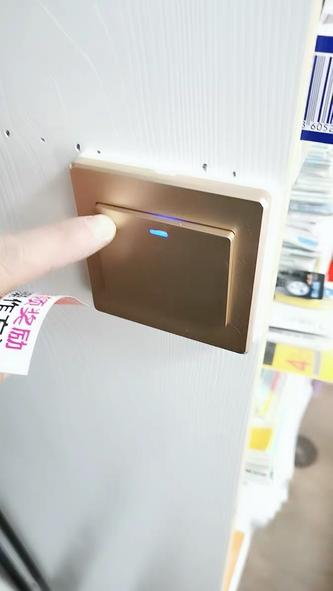switch: (98, 201, 231, 319)
